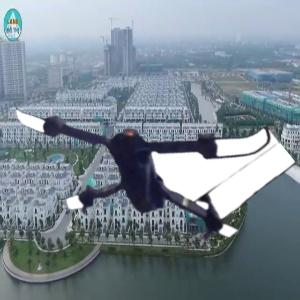drone: (16, 37, 260, 281)
